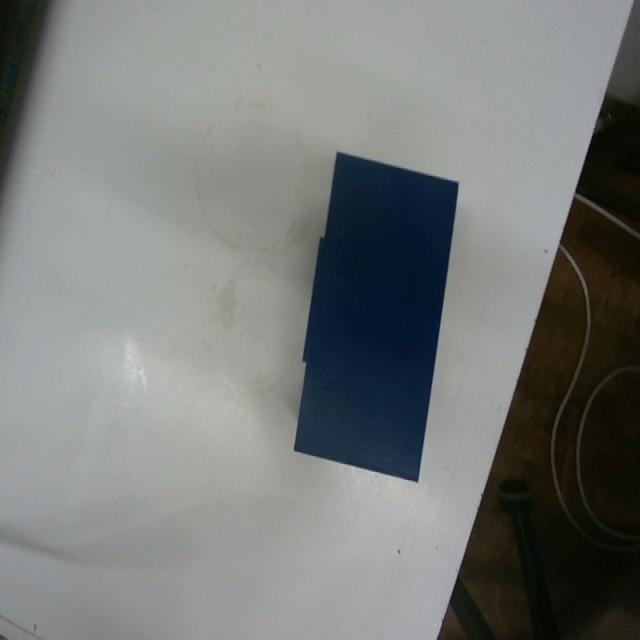Blue Cuboid: (291, 147, 460, 484)
